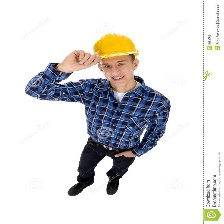helmet: (83, 31, 140, 64)
no-vest: (79, 78, 168, 155)
person: (48, 23, 173, 194)
